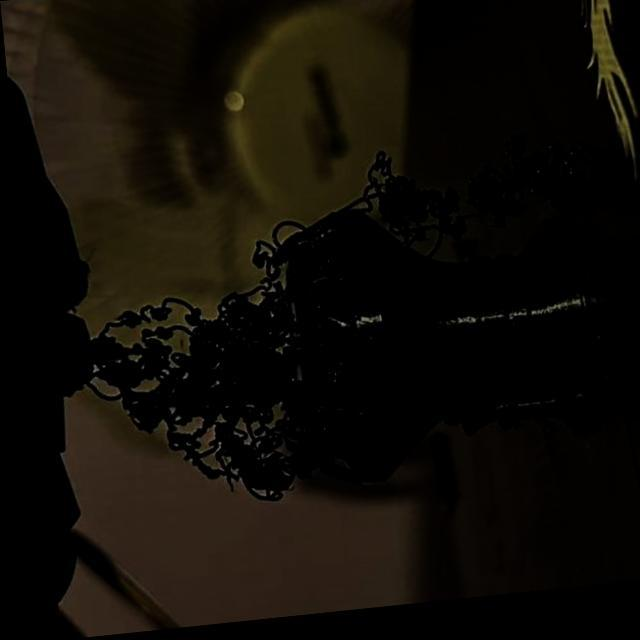spaghetti: (94, 301, 226, 415), (465, 144, 598, 244), (168, 392, 259, 468), (370, 179, 461, 249), (226, 426, 305, 498), (220, 291, 273, 360), (245, 230, 300, 278)
